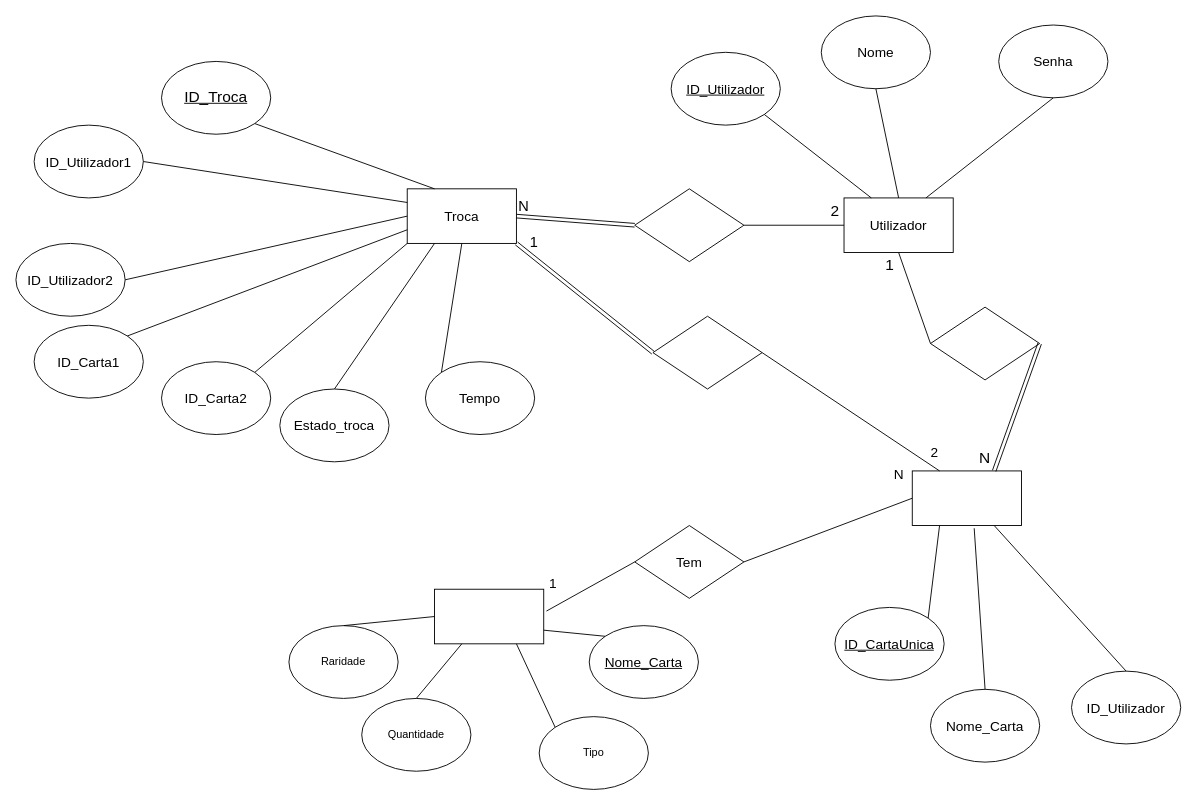
Image size: 1197x805. Some labels were removed from this diagram. Each missing label, with the centre of its shape:
Banco de cartas: the point at 489,616
Carta: the point at 966,498
Envolve: the point at 707,352
Fazem: the point at 689,225
Possui: the point at 985,343
